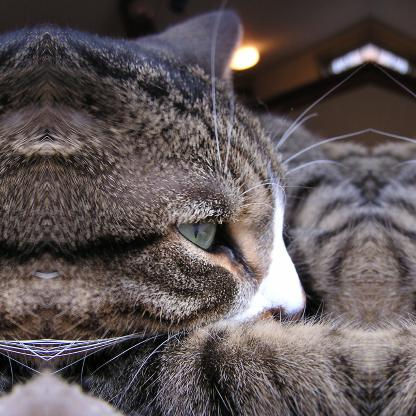Cat: (46, 11, 368, 415)
